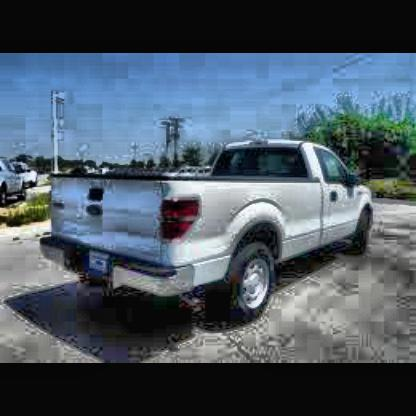Ford F-150 Regular Cab 2012: (38, 140, 380, 327)
